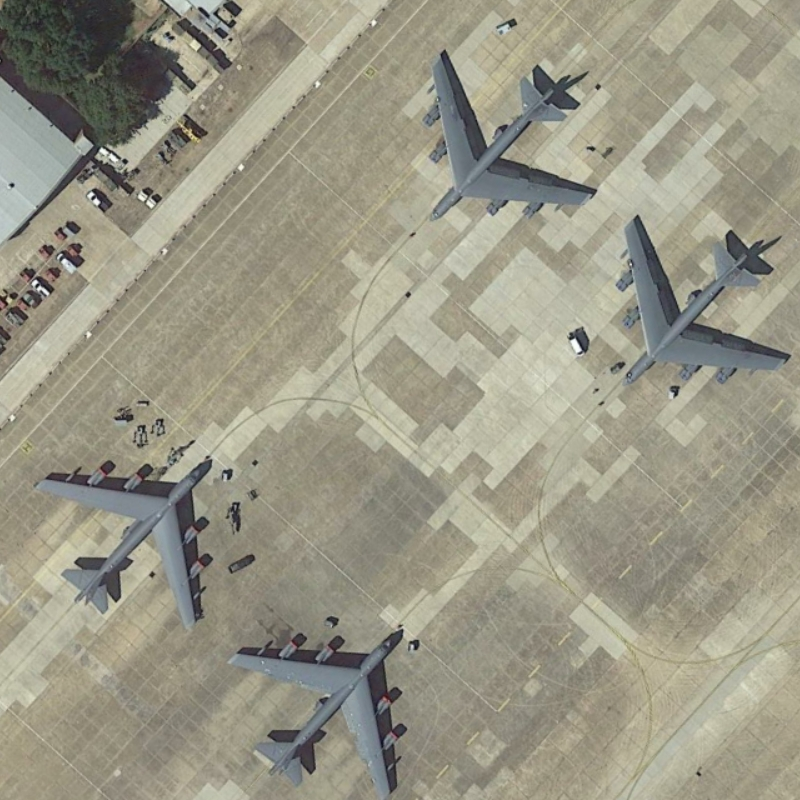A8: (409, 39, 600, 228), (26, 439, 214, 630), (610, 211, 794, 401), (221, 616, 408, 800)
